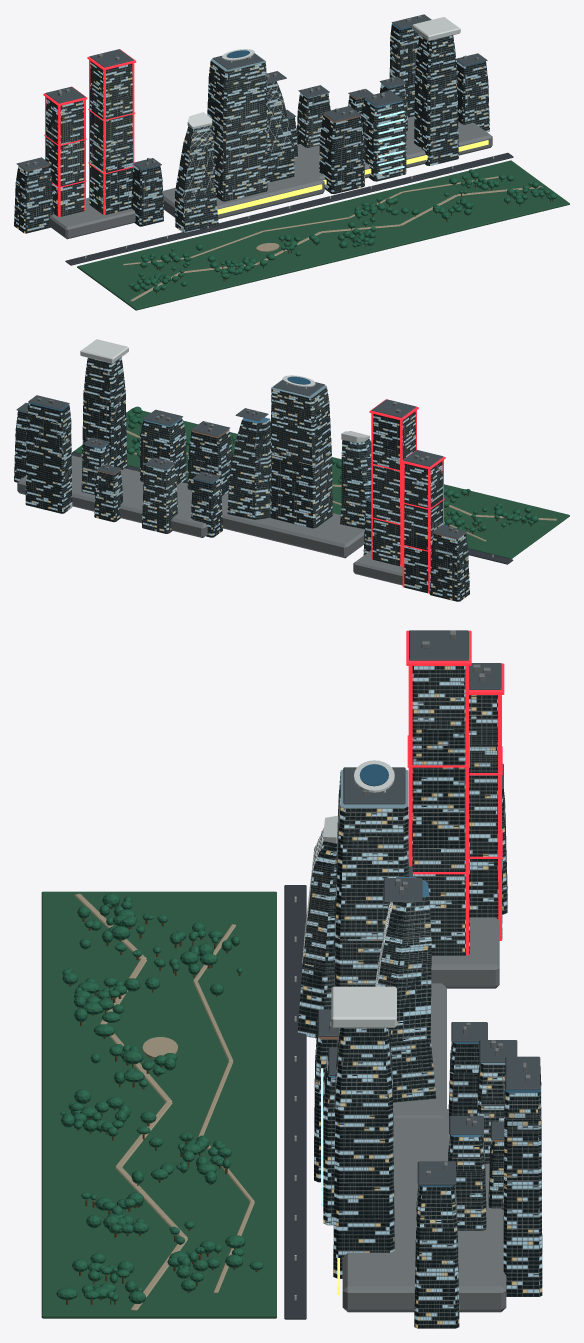
The model's file is yeouido-night-skyline.glb.
3 renders of one model, top to bottom at view 1: azimuth 30°, elevation 25°; view 2: azimuth 150°, elevation 25°; view 3: azimuth 270°, elevation 25°, orthographic. The views are drawn at different scales.
Visible parts, largest first — view 1: finite riverside park, IFC main tower faceted volume, Parc1 tall faceted volume, East crown tower faceted volume, Batched • Park • Tree foliage, IFC west wedge faceted, Parc1 short faceted volume, Brown chamfered office faceted volume, rear boulevard, Banded midrise faceted volume, IFC main tower faceted volume • fine facade frames, Secondary 6 faceted volume (+28 smaller); view 2: IFC main tower faceted volume, finite riverside park, Rear dark slab faceted volume, Parc1 tall faceted volume, East crown tower faceted volume, Parc1 short faceted volume, IFC east wedge faceted, IFC deep connected podium, east deep podium, IFC main tower faceted volume • fine facade frames, IFC west wedge faceted, Secondary 6 faceted volume (+32 smaller); view 3: finite riverside park, Batched • Park • Tree foliage, Parc1 tall faceted volume, east deep podium, East crown tower faceted volume, IFC main tower faceted volume, rear boulevard, IFC east wedge faceted, Rear dark slab faceted volume, Parc1 short faceted volume, Secondary 4 faceted volume, IFC west wedge faceted (+27 smaller).
Boxes of the visible parts, x1=… form: finite riverside park: x1=77, y1=160, x2=569, y2=310; IFC main tower faceted volume: x1=207, y1=53, x2=267, y2=201; Parc1 tall faceted volume: x1=89, y1=61, x2=132, y2=214; East crown tower faceted volume: x1=414, y1=34, x2=458, y2=165; Batched • Park • Tree foliage: x1=128, y1=169, x2=557, y2=292; IFC west wedge faceted: x1=175, y1=125, x2=218, y2=232; Parc1 short faceted volume: x1=45, y1=97, x2=84, y2=216; Brown chamfered office faceted volume: x1=319, y1=114, x2=364, y2=193; rear boulevard: x1=65, y1=152, x2=513, y2=265; Banded midrise faceted volume: x1=361, y1=99, x2=406, y2=181; IFC main tower faceted volume • fine facade frames: x1=208, y1=63, x2=267, y2=201; Secondary 6 faceted volume: x1=14, y1=165, x2=53, y2=233; IFC main tower faceted volume: x1=270, y1=379, x2=332, y2=528; finite riverside park: x1=73, y1=408, x2=569, y2=558; Rear dark slab faceted volume: x1=25, y1=402, x2=72, y2=513; Parc1 tall faceted volume: x1=372, y1=411, x2=415, y2=566; East crown tower faceted volume: x1=82, y1=357, x2=126, y2=470; Parc1 short faceted volume: x1=404, y1=461, x2=442, y2=593; IFC east wedge faceted: x1=227, y1=417, x2=270, y2=519; IFC deep connected podium: x1=222, y1=497, x2=364, y2=558; east deep podium: x1=17, y1=455, x2=228, y2=537; IFC main tower faceted volume • fine facade frames: x1=271, y1=387, x2=332, y2=528; IFC west wedge faceted: x1=340, y1=439, x2=371, y2=529; Secondary 6 faceted volume: x1=429, y1=533, x2=469, y2=601; finite riverside park: x1=41, y1=891, x2=276, y2=1318; Batched • Park • Tree foliage: x1=56, y1=893, x2=263, y2=1303; Parc1 tall faceted volume: x1=408, y1=666, x2=469, y2=955; east deep podium: x1=342, y1=1109, x2=506, y2=1312; East crown tower faceted volume: x1=333, y1=1028, x2=394, y2=1278; IFC main tower faceted volume: x1=335, y1=769, x2=408, y2=986; rear boulevard: x1=284, y1=885, x2=306, y2=1319; IFC east wedge faceted: x1=375, y1=877, x2=436, y2=1102; Rear dark slab faceted volume: x1=503, y1=1066, x2=542, y2=1296; Parc1 short faceted volume: x1=469, y1=695, x2=502, y2=938; Secondary 4 faceted volume: x1=414, y1=1185, x2=459, y2=1328; IFC west wedge faceted: x1=298, y1=828, x2=336, y2=1038.
Bounding box in the file's own units: 1025 × 354 × 489.
Materials: 20 (3 with a texture image).
